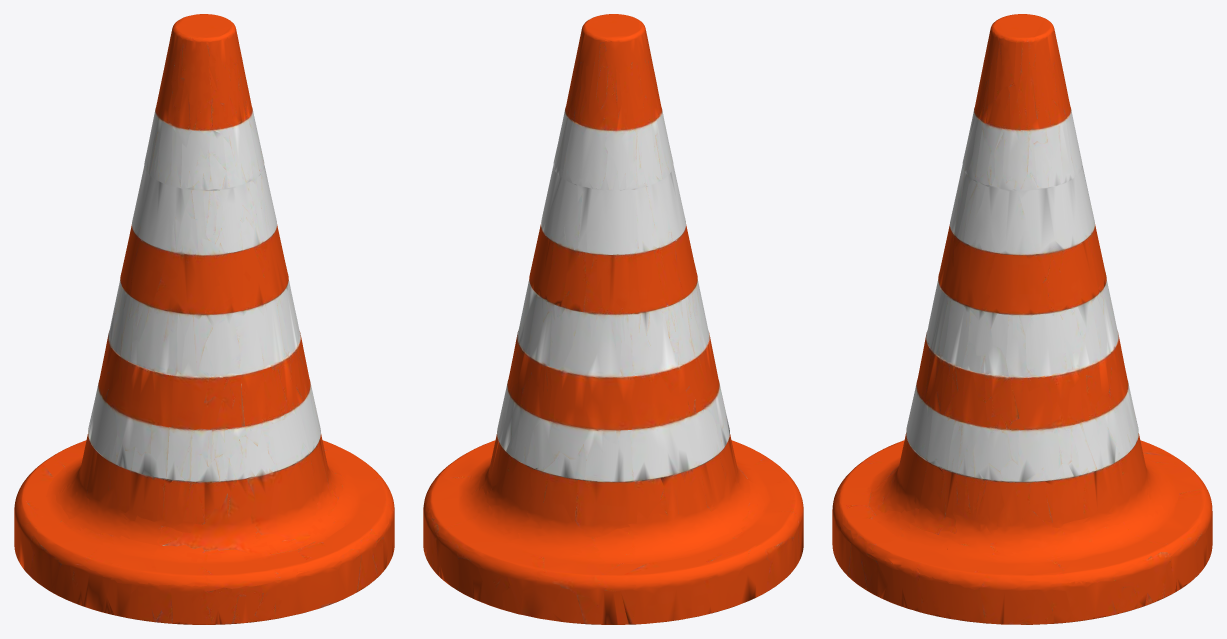
3 renders of one model, left to right at view 1: azimuth 30°, elevation 25°; view 2: azimuth 150°, elevation 25°; view 3: azimuth 270°, elevation 25°, orthographic.
Bounding box in the file's own units: 1.26 × 1.9 × 1.26.
Materials: 1 (1 with a texture image).
